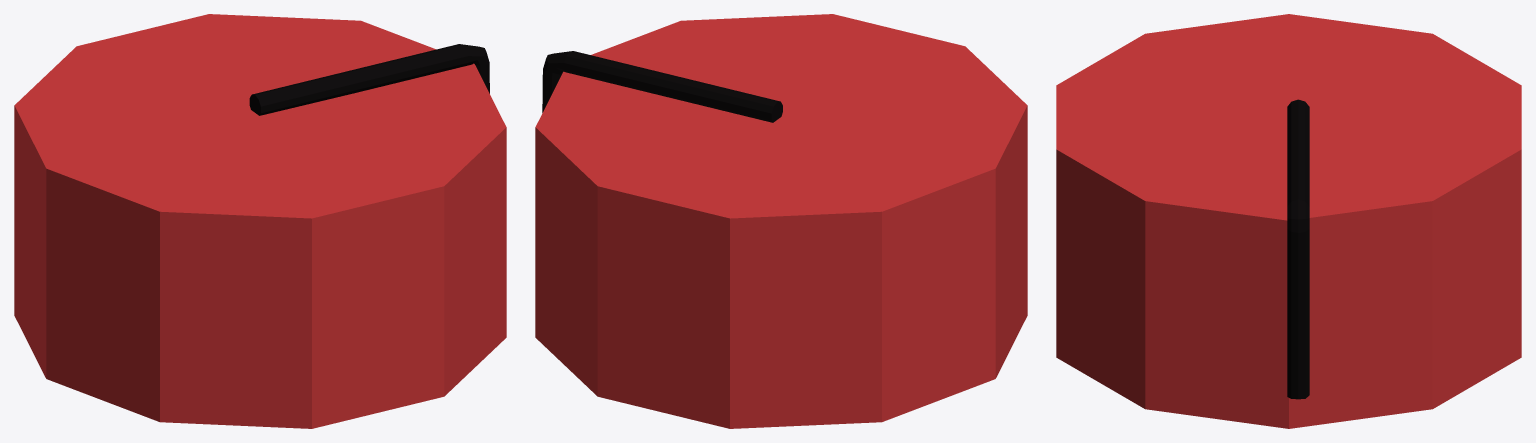
File: tete_turc 2.FBX
The picture shows the model from 3 angles, left to right: view 1: azimuth 30°, elevation 25°; view 2: azimuth 150°, elevation 25°; view 3: azimuth 270°, elevation 25°; orthographic projection.
Visible parts, largest first — view 1: Cylinder030; view 2: Cylinder030; view 3: Cylinder030.
Boxes of the visible parts, box(x1,y1,x2,y2) form: Cylinder030: box(14, 14, 506, 428); Cylinder030: box(535, 14, 1027, 428); Cylinder030: box(1056, 14, 1521, 428).
Size of the model in its own units: 56.78 by 27.62 by 51.6.
